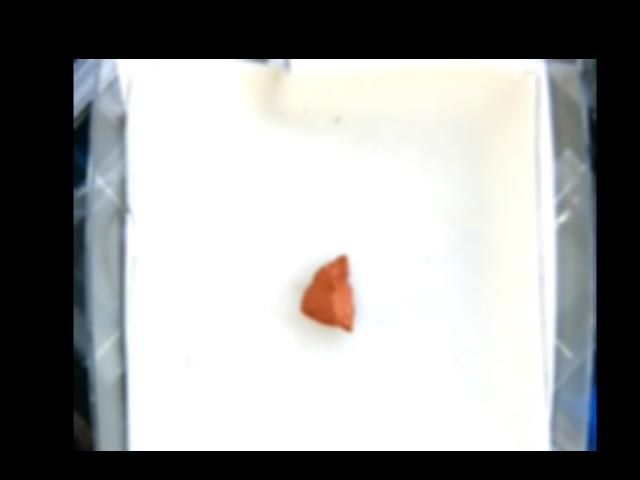Brisk: (298, 253, 353, 334)
